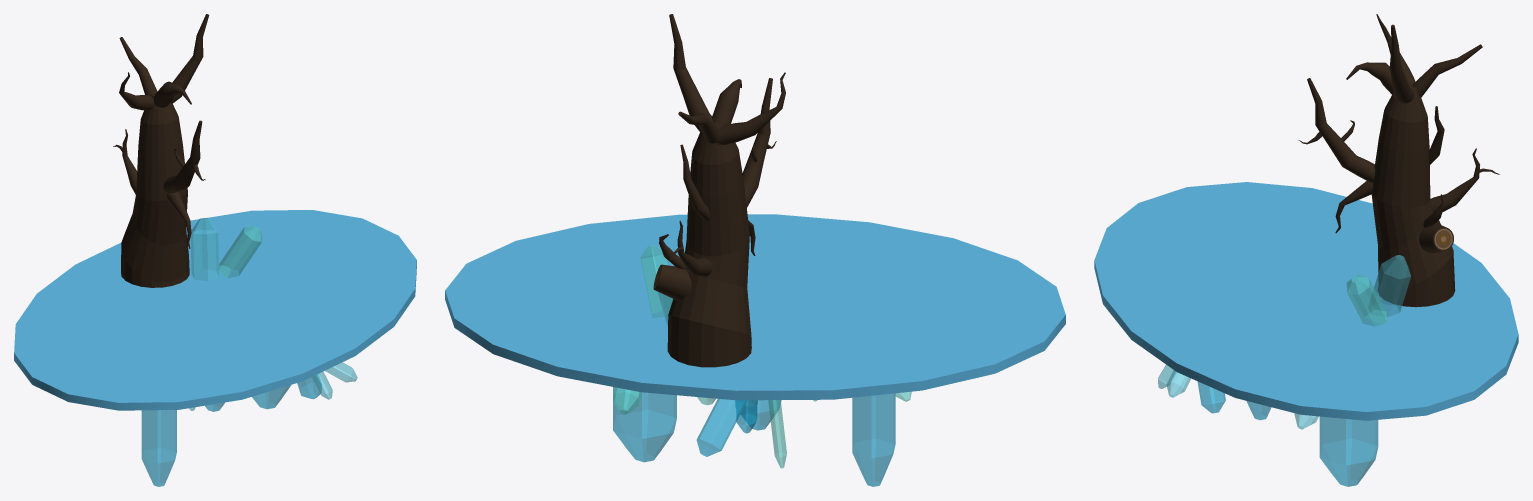
File: TreePlane.fbx
3 renders of one model, left to right at view 1: azimuth 30°, elevation 25°; view 2: azimuth 150°, elevation 25°; view 3: azimuth 270°, elevation 25°, orthographic. The views are drawn at different scales.
Parts seen in each view (by area): view 1: pCylinder1, pCylinder41, pCylinder28, pCylinder55, pCylinder56, pCylinder42, pCylinder51, pCylinder44, pCylinder45, pCylinder52, pCylinder16, pCylinder49 (+1 smaller); view 2: pCylinder1, pCylinder41, pCylinder16, pCylinder28, pCylinder20, pCylinder51, pCylinder42, pCylinder56, pCylinder52, pCylinder43, pCylinder18, pCylinder45 (+3 smaller); view 3: pCylinder1, pCylinder41, pCylinder16, pCylinder55, pCylinder42, pCylinder56, pCylinder51, pCylinder43, pCylinder44, pCylinder47, pCylinder45, pCylinder32 (+1 smaller).
Boxes of the visible parts, <box> form: pCylinder1: <box>14,210,416,410</box>; pCylinder41: <box>121,91,189,287</box>; pCylinder28: <box>141,410,176,486</box>; pCylinder55: <box>190,218,219,281</box>; pCylinder56: <box>218,226,262,278</box>; pCylinder42: <box>163,120,202,192</box>; pCylinder51: <box>170,14,209,103</box>; pCylinder44: <box>119,37,157,95</box>; pCylinder45: <box>153,81,191,107</box>; pCylinder52: <box>119,72,153,110</box>; pCylinder16: <box>252,385,290,409</box>; pCylinder49: <box>167,191,191,248</box>; pCylinder1: <box>445,214,1065,400</box>; pCylinder41: <box>667,122,751,367</box>; pCylinder16: <box>613,387,676,462</box>; pCylinder28: <box>852,393,895,486</box>; pCylinder20: <box>696,399,747,456</box>; pCylinder51: <box>669,14,719,145</box>; pCylinder42: <box>742,78,772,207</box>; pCylinder56: <box>640,245,672,318</box>; pCylinder52: <box>716,72,785,144</box>; pCylinder43: <box>653,264,691,300</box>; pCylinder18: <box>768,400,786,468</box>; pCylinder45: <box>712,79,741,125</box>; pCylinder1: <box>1094,182,1518,420</box>; pCylinder41: <box>1371,82,1455,307</box>; pCylinder16: <box>1319,416,1378,486</box>; pCylinder55: <box>1368,255,1410,316</box>; pCylinder42: <box>1307,78,1374,182</box>; pCylinder56: <box>1346,275,1386,326</box>; pCylinder51: <box>1389,24,1413,103</box>; pCylinder43: <box>1419,223,1453,253</box>; pCylinder44: <box>1412,44,1482,97</box>; pCylinder47: <box>1430,148,1479,212</box>; pCylinder45: <box>1346,62,1393,95</box>; pCylinder32: <box>1197,382,1225,413</box>.
Size of the model in its own units: 5.23 by 4.77 by 4.07.
